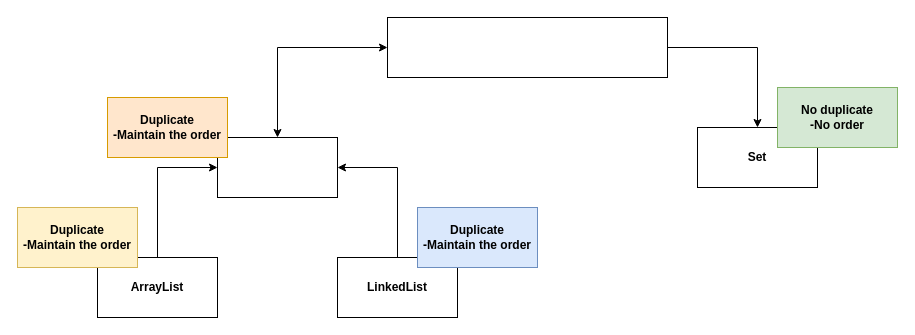
The diagram is 915 pixels wide and 335 high, and some of its shapes have lost their labels. The box of each missing label's shape, as (x1, y1, x2, y2) in pixels:
Collection: (386, 16, 668, 78)
List: (216, 136, 338, 198)
